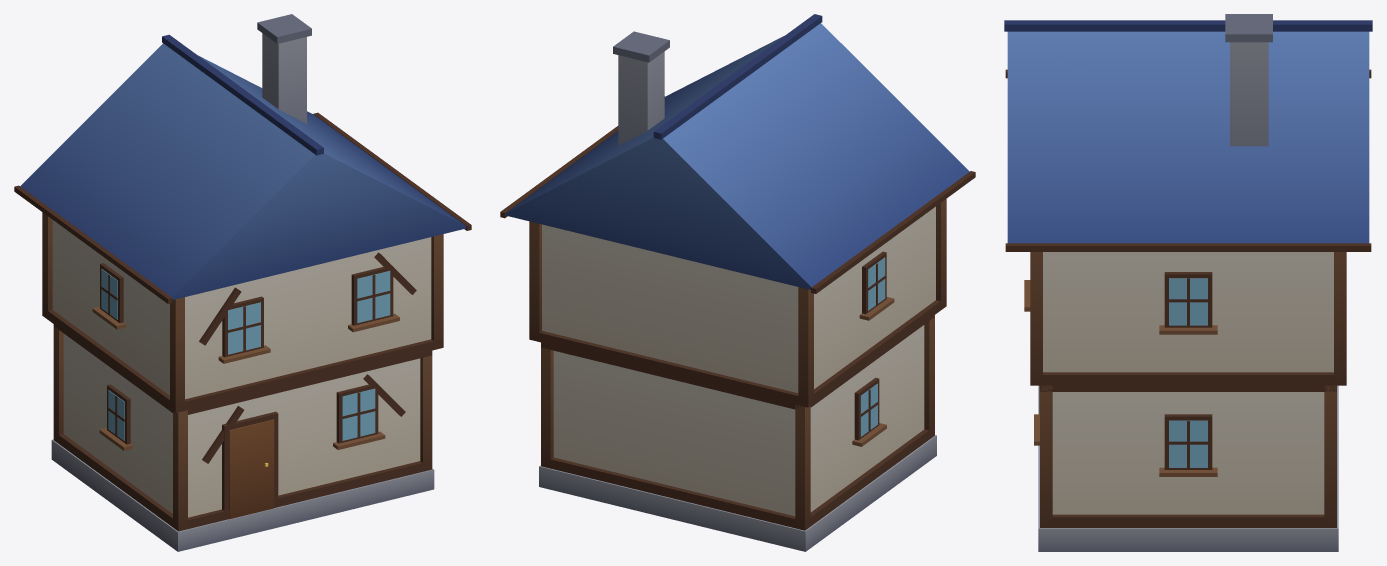
Rendered from house_town_blue.glb.
3 renders of one model, left to right at view 1: azimuth 30°, elevation 25°; view 2: azimuth 150°, elevation 25°; view 3: azimuth 270°, elevation 25°, orthographic. The views are drawn at different scales.
Visible parts, largest first — view 1: house_town_blue; view 2: house_town_blue; view 3: house_town_blue.
Part boxes in pixels (x1,y1,x2,y2): house_town_blue: (14,14,471,551); house_town_blue: (500,14,975,551); house_town_blue: (1004,14,1372,551).
Size of the model in its own units: 6.46 by 8.41 by 5.7.
